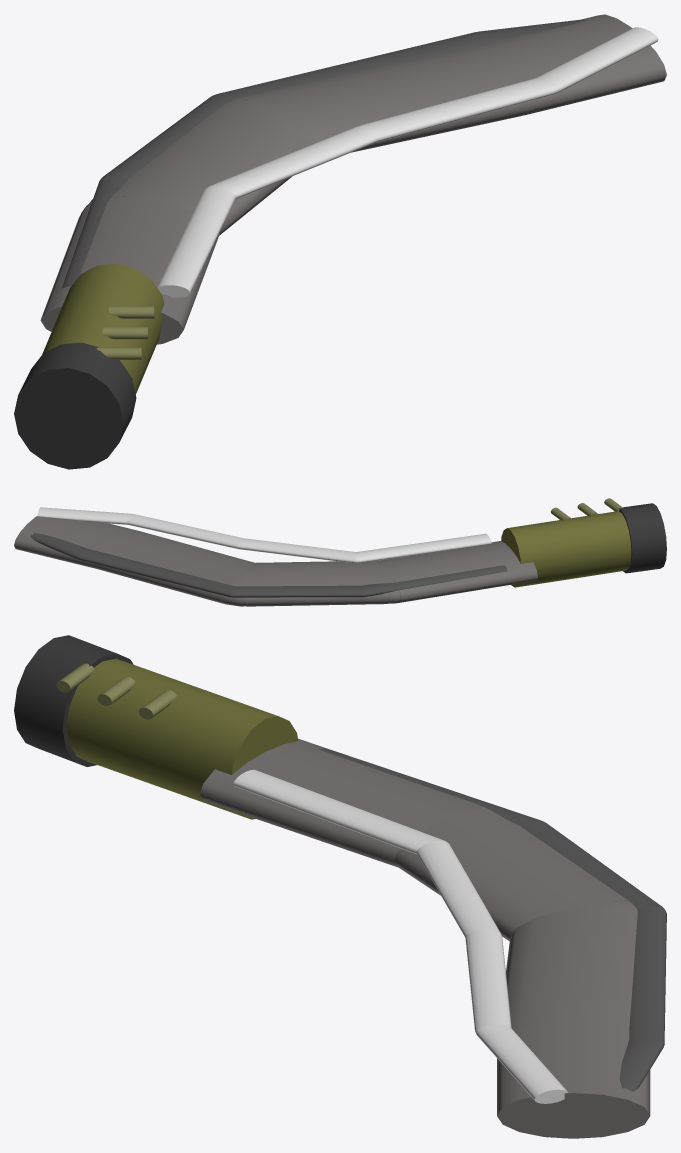
The model's file is CMU3DFieldKukriKnifeCloud.glb.
The picture shows the model from 3 angles, top to bottom: view 1: azimuth 30°, elevation 25°; view 2: azimuth 150°, elevation 25°; view 3: azimuth 270°, elevation 25°; orthographic projection. The views are drawn at different scales.
Parts seen in each view (by area): view 1: recurved broad blade spine span 3, dark pommel, recurved broad blade spine span 2, recurved broad blade spine span 1, recurved broad blade spine span 4, olive kukri handle, bright curved cutting edge span 3, bright curved cutting edge span 1, bright curved cutting edge span 2, dark blade back span 3, bright curved cutting edge span 4, dark blade back span 2 (+2 smaller); view 2: olive kukri handle, recurved broad blade spine span 1, recurved broad blade spine span 3, recurved broad blade spine span 2, recurved broad blade spine span 4, dark pommel, dark blade back span 3, bright curved cutting edge span 1, dark blade back span 2, bright curved cutting edge span 2, bright curved cutting edge span 3, dark blade back span 1 (+4 smaller); view 3: olive kukri handle, recurved broad blade spine span 3, recurved broad blade spine span 1, recurved broad blade spine span 4, recurved broad blade spine span 2, dark pommel, bright curved cutting edge span 1, dark blade back span 3, bright curved cutting edge span 3, bright curved cutting edge span 2, bright curved cutting edge span 4, dark blade back span 2 (+2 smaller).
Boxes of the visible parts, x1,y1,x2,y2 form: recurved broad blade spine span 3: (241,48,524,152); dark pommel: (14,342,136,469); recurved broad blade spine span 2: (90,106,310,235); recurved broad blade spine span 1: (40,199,220,344); recurved broad blade spine span 4: (467,14,666,115); olive kukri handle: (42,263,164,394); bright curved cutting edge span 3: (360,78,554,141); bright curved cutting edge span 1: (157,187,235,297); bright curved cutting edge span 2: (209,126,377,199); dark blade back span 3: (220,32,487,99); bright curved cutting edge span 4: (536,27,658,92); dark blade back span 2: (103,95,232,179); olive kukri handle: (501,511,631,587); recurved broad blade spine span 1: (380,541,537,603); recurved broad blade spine span 3: (95,530,254,603); recurved broad blade spine span 2: (245,560,387,606); recurved broad blade spine span 4: (14,516,134,568); dark pommel: (619,503,666,573); dark blade back span 3: (78,549,234,596); bright curved cutting edge span 1: (356,533,491,562); dark blade back span 2: (233,585,361,597); bright curved cutting edge span 2: (238,538,356,562); bright curved cutting edge span 3: (127,514,243,548); dark blade back span 1: (361,565,507,596); olive kukri handle: (66,658,298,819); recurved broad blade spine span 3: (506,906,637,1029); recurved broad blade spine span 1: (200,738,480,867); recurved broad blade spine span 4: (497,1021,650,1138); recurved broad blade spine span 2: (394,810,628,940); dark pommel: (14,635,133,766); bright curved cutting edge span 1: (233,769,441,854); dark blade back span 3: (629,907,666,1044); bright curved cutting edge span 3: (465,930,511,1032); bright curved cutting edge span 2: (416,841,501,937); bright curved cutting edge span 4: (476,1024,567,1103); dark blade back span 2: (521,821,662,908).
Size of the model in its own units: 0.67 by 0.0762 by 0.4199.
